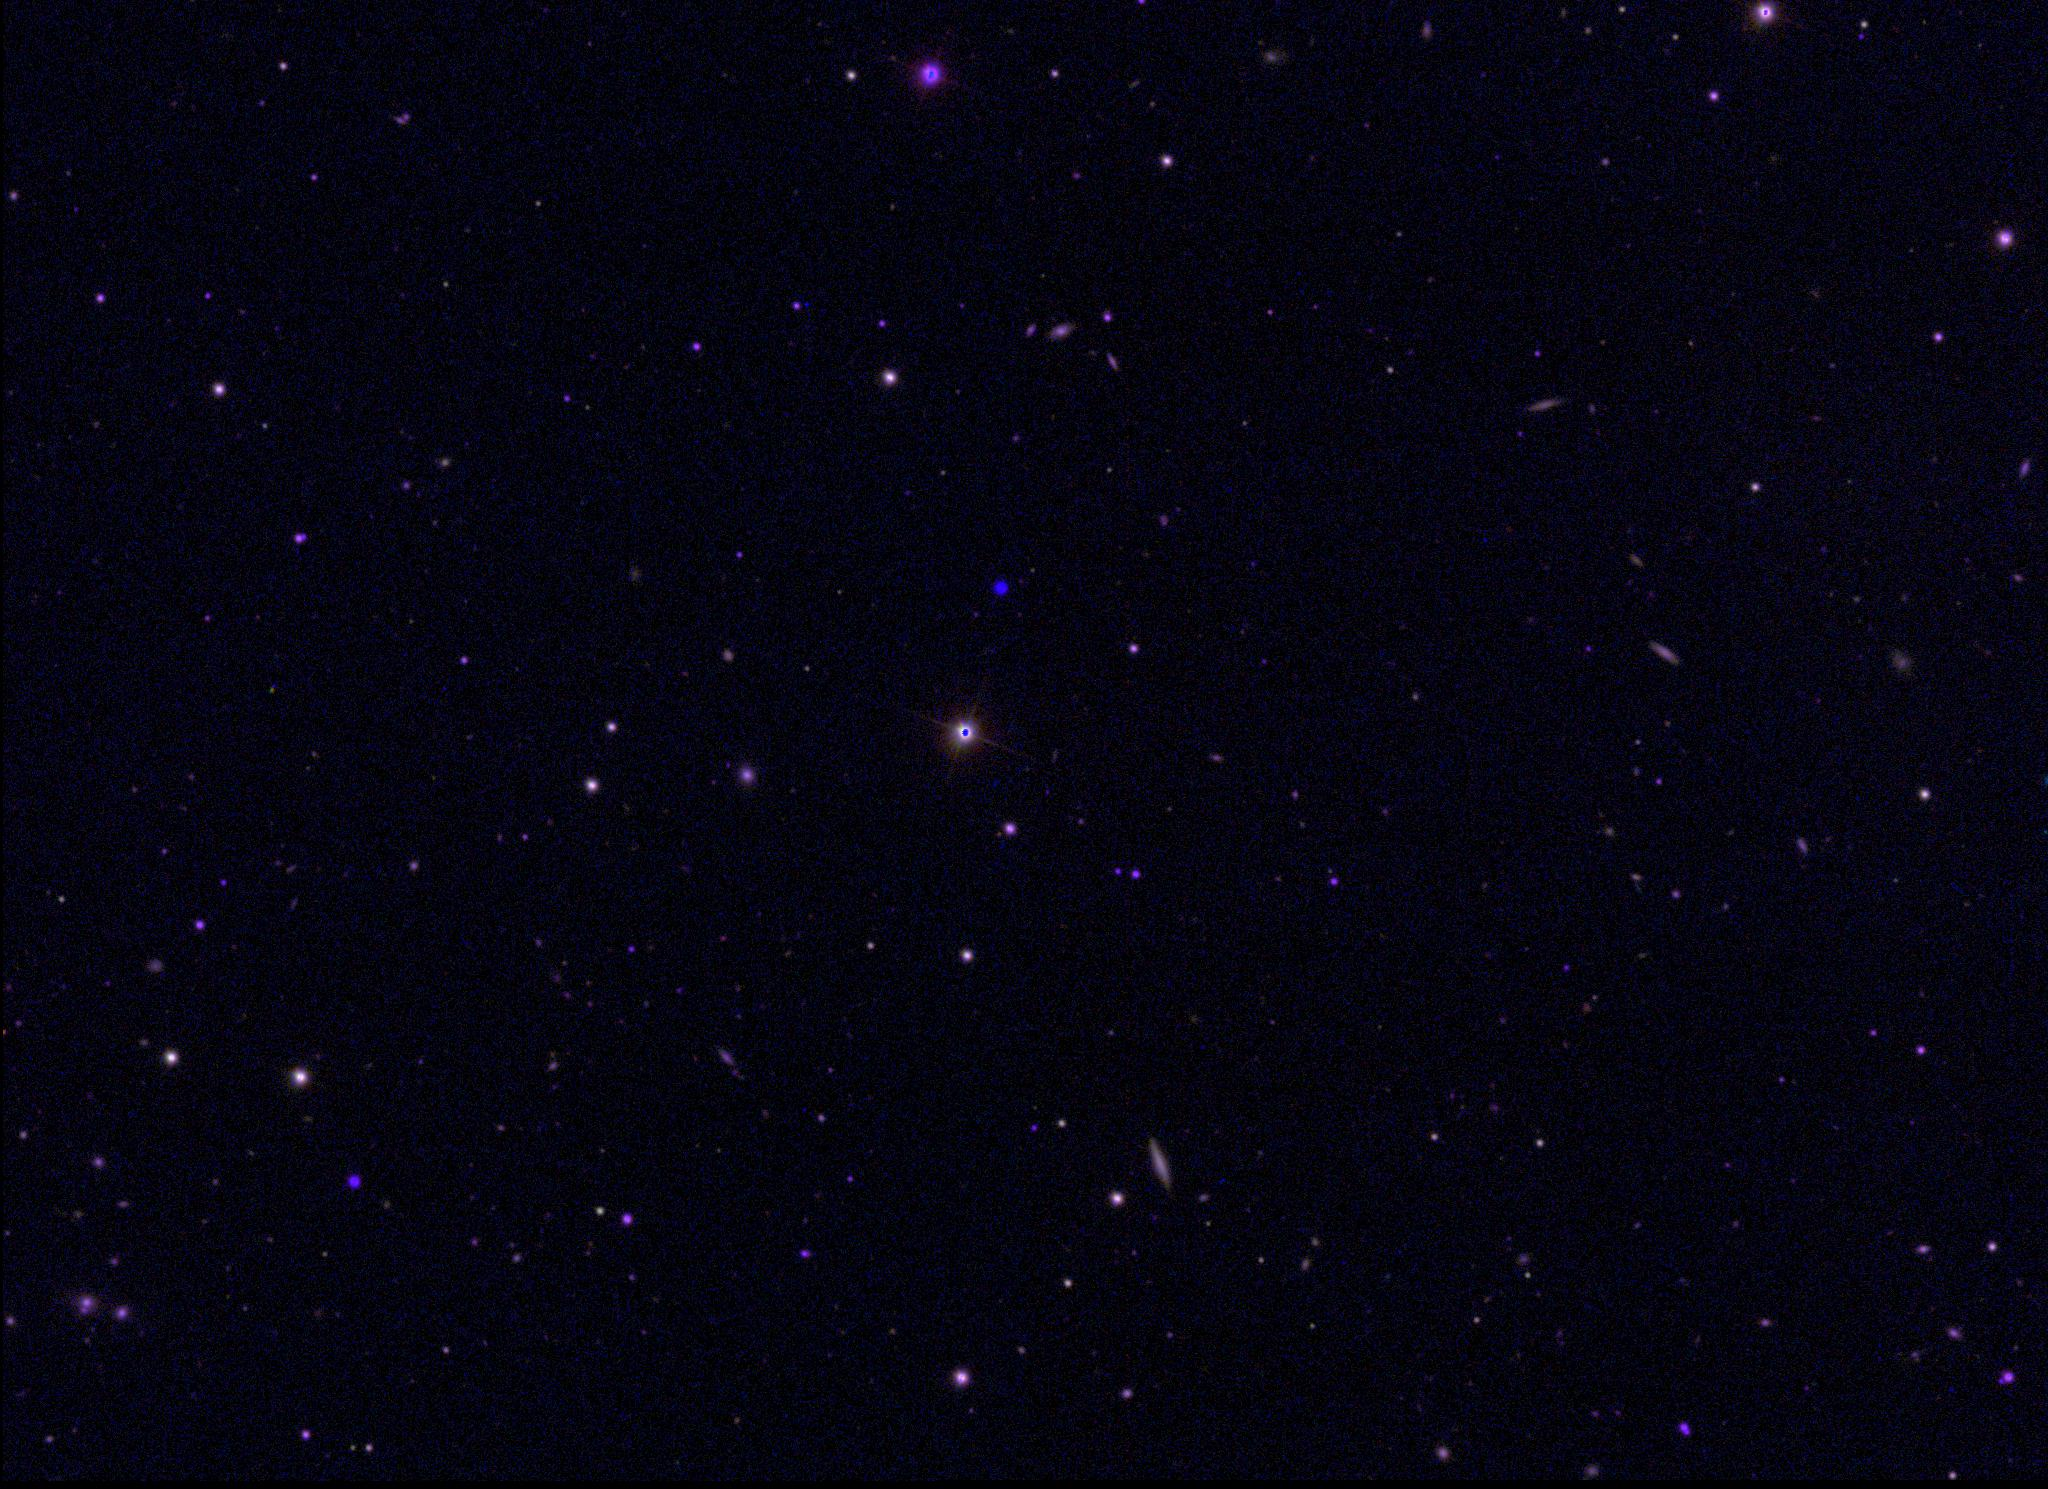L: (994, 581, 1008, 595)
